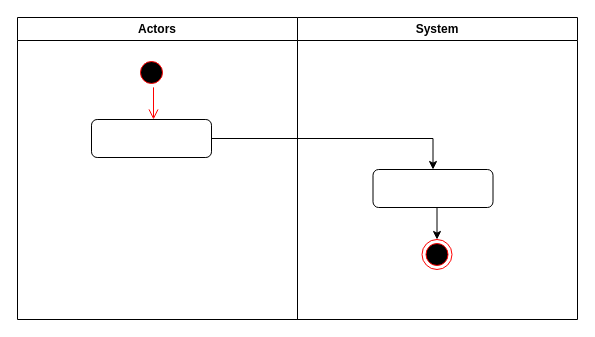
The diagram is 595 pixels wide and 337 high, and some of its shapes have lost their labels. The box of each missing label's shape, as (x1, y1, x2, y2) in pixels:
Enter Equipment needing maintenance: (90, 118, 212, 158)
Stored in log book: (372, 168, 493, 208)
